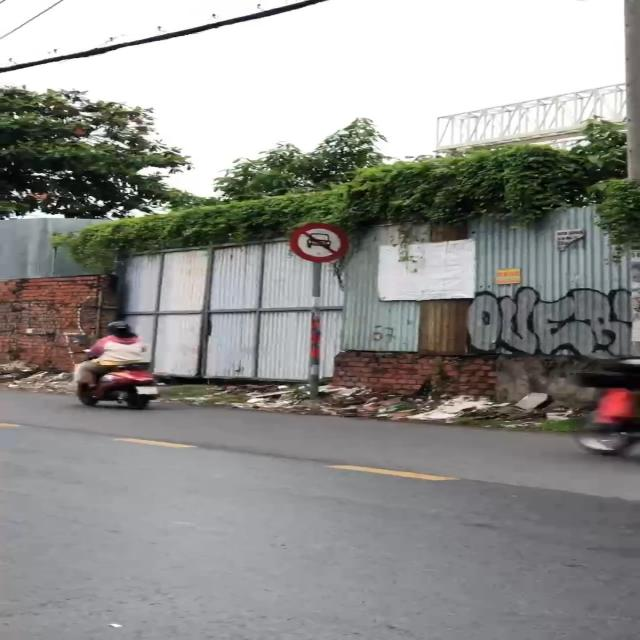Bien bao cam xe oto: (287, 221, 355, 263)
